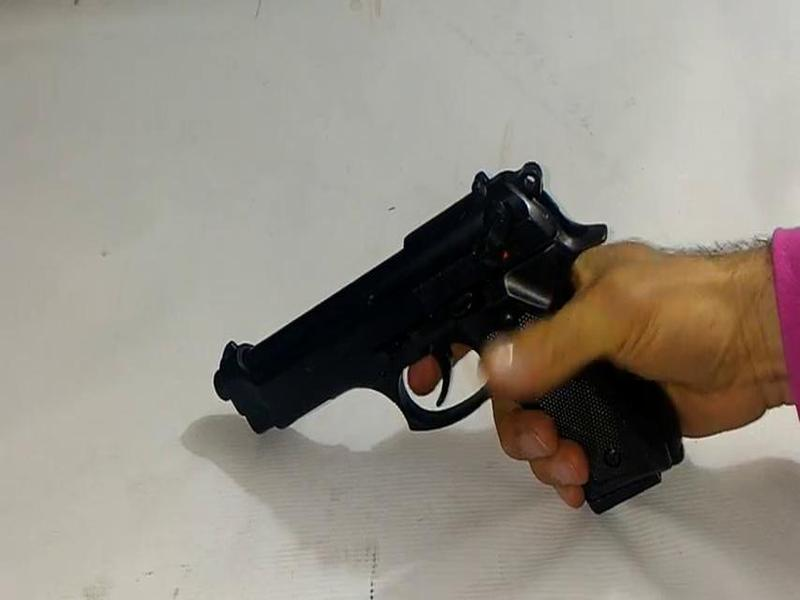Pistola: (167, 154, 696, 536)
